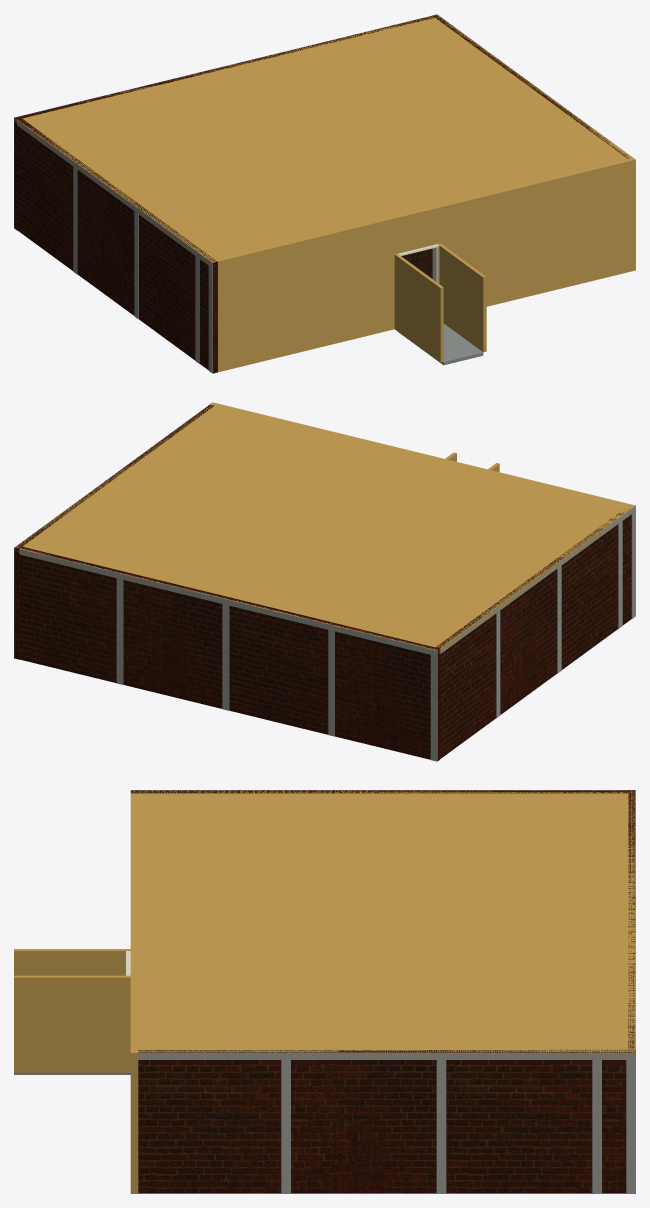
File: building.glb
3 views of the same model, one above another, from view 1: azimuth 30°, elevation 25°; view 2: azimuth 150°, elevation 25°; view 3: azimuth 270°, elevation 25° (orthographic). The views are drawn at different scales.
Parts seen in each view (by area): view 1: roof/house:0/roof_slab#0001, house:0/edge0/z0/house:0/edge0/z0/wall_0_0, house:0/edge3/z0/house:0/edge3/z0/wall_0_0, entrance/paso_zaguan/entrance_side#0001, entrance/paso_zaguan/entrance_side#0002, house:0/edge2/z0/house:0/edge2/z0/wall_0_0, house:0/edge3/z0/house:0/edge3/z0/beam_0_0, entrance/paso_zaguan/entrance_passage#0001, house:0/edge1/z0/house:0/edge1/z0/wall_0_0, house:0/edge3/z0/house:0/edge3/z0/column_1_0, house:0/edge3/z0/house:0/edge3/z0/column_3_0, house:0/edge3/z0/house:0/edge3/z0/column_4_0 (+1 smaller); view 2: roof/house:0/roof_slab#0001, house:0/edge2/z0/house:0/edge2/z0/wall_0_0, house:0/edge3/z0/house:0/edge3/z0/wall_0_0, house:0/edge2/z0/house:0/edge2/z0/beam_0_0, house:0/edge1/z0/house:0/edge1/z0/wall_0_0, house:0/edge3/z0/house:0/edge3/z0/beam_0_0, house:0/edge0/z0/house:0/edge0/z0/wall_0_0, house:0/edge2/z0/house:0/edge2/z0/column_1_0, house:0/edge2/z0/house:0/edge2/z0/column_3_0, house:0/edge2/z0/house:0/edge2/z0/column_2_0, house:0/edge2/z0/house:0/edge2/z0/column_4_0, house:0/edge3/z0/house:0/edge3/z0/column_1_0 (+3 smaller); view 3: roof/house:0/roof_slab#0001, house:0/edge1/z0/house:0/edge1/z0/wall_0_0, entrance/paso_zaguan/entrance_side#0002, house:0/edge1/z0/house:0/edge1/z0/beam_0_0, house:0/edge0/z0/house:0/edge0/z0/wall_0_0, entrance/paso_zaguan/entrance_side#0001, house:0/edge3/z0/house:0/edge3/z0/wall_0_0, house:0/edge1/z0/house:0/edge1/z0/column_3_0, house:0/edge2/z0/house:0/edge2/z0/wall_0_0, house:0/edge1/z0/house:0/edge1/z0/column_1_0, house:0/edge1/z0/house:0/edge1/z0/column_2_0, house:0/edge1/z0/house:0/edge1/z0/column_4_0.
Boxes of the visible parts, x1=… form: roof/house:0/roof_slab#0001: x1=14, y1=14, x2=633, y2=266; house:0/edge0/z0/house:0/edge0/z0/wall_0_0: x1=215, y1=157, x2=635, y2=372; house:0/edge3/z0/house:0/edge3/z0/wall_0_0: x1=17, y1=118, x2=217, y2=373; entrance/paso_zaguan/entrance_side#0001: x1=394, y1=254, x2=443, y2=362; entrance/paso_zaguan/entrance_side#0002: x1=438, y1=243, x2=486, y2=352; house:0/edge2/z0/house:0/edge2/z0/wall_0_0: x1=14, y1=16, x2=434, y2=230; house:0/edge3/z0/house:0/edge3/z0/beam_0_0: x1=17, y1=119, x2=212, y2=268; entrance/paso_zaguan/entrance_passage#0001: x1=398, y1=323, x2=483, y2=365; house:0/edge1/z0/house:0/edge1/z0/wall_0_0: x1=432, y1=14, x2=629, y2=158; house:0/edge3/z0/house:0/edge3/z0/column_1_0: x1=208, y1=266, x2=212, y2=373; house:0/edge3/z0/house:0/edge3/z0/column_3_0: x1=134, y1=211, x2=138, y2=318; house:0/edge3/z0/house:0/edge3/z0/column_4_0: x1=195, y1=256, x2=199, y2=363; roof/house:0/roof_slab#0001: x1=14, y1=402, x2=635, y2=653; house:0/edge2/z0/house:0/edge2/z0/wall_0_0: x1=19, y1=546, x2=440, y2=760; house:0/edge3/z0/house:0/edge3/z0/wall_0_0: x1=435, y1=509, x2=631, y2=758; house:0/edge2/z0/house:0/edge2/z0/beam_0_0: x1=19, y1=548, x2=437, y2=656; house:0/edge1/z0/house:0/edge1/z0/wall_0_0: x1=14, y1=404, x2=213, y2=659; house:0/edge3/z0/house:0/edge3/z0/beam_0_0: x1=440, y1=505, x2=635, y2=653; house:0/edge0/z0/house:0/edge0/z0/wall_0_0: x1=210, y1=402, x2=625, y2=505; house:0/edge2/z0/house:0/edge2/z0/column_1_0: x1=430, y1=655, x2=437, y2=761; house:0/edge2/z0/house:0/edge2/z0/column_3_0: x1=222, y1=604, x2=229, y2=710; house:0/edge2/z0/house:0/edge2/z0/column_2_0: x1=116, y1=578, x2=123, y2=684; house:0/edge2/z0/house:0/edge2/z0/column_4_0: x1=328, y1=630, x2=334, y2=736; house:0/edge3/z0/house:0/edge3/z0/column_1_0: x1=631, y1=511, x2=635, y2=618; roof/house:0/roof_slab#0001: x1=130, y1=790, x2=635, y2=1057; house:0/edge1/z0/house:0/edge1/z0/wall_0_0: x1=138, y1=1049, x2=635, y2=1193; entrance/paso_zaguan/entrance_side#0002: x1=14, y1=975, x2=130, y2=1072; house:0/edge1/z0/house:0/edge1/z0/beam_0_0: x1=138, y1=1052, x2=635, y2=1059; house:0/edge0/z0/house:0/edge0/z0/wall_0_0: x1=130, y1=793, x2=138, y2=1193; entrance/paso_zaguan/entrance_side#0001: x1=14, y1=949, x2=130, y2=975; house:0/edge3/z0/house:0/edge3/z0/wall_0_0: x1=130, y1=790, x2=628, y2=793; house:0/edge1/z0/house:0/edge1/z0/column_3_0: x1=436, y1=1060, x2=446, y2=1193; house:0/edge2/z0/house:0/edge2/z0/wall_0_0: x1=628, y1=790, x2=635, y2=1049; house:0/edge1/z0/house:0/edge1/z0/column_1_0: x1=626, y1=1060, x2=635, y2=1193; house:0/edge1/z0/house:0/edge1/z0/column_2_0: x1=281, y1=1060, x2=290, y2=1193; house:0/edge1/z0/house:0/edge1/z0/column_4_0: x1=592, y1=1060, x2=601, y2=1193.
Bounding box in the file's own units: 16 × 4.12 × 16.
Materials: 7 (2 with a texture image).
